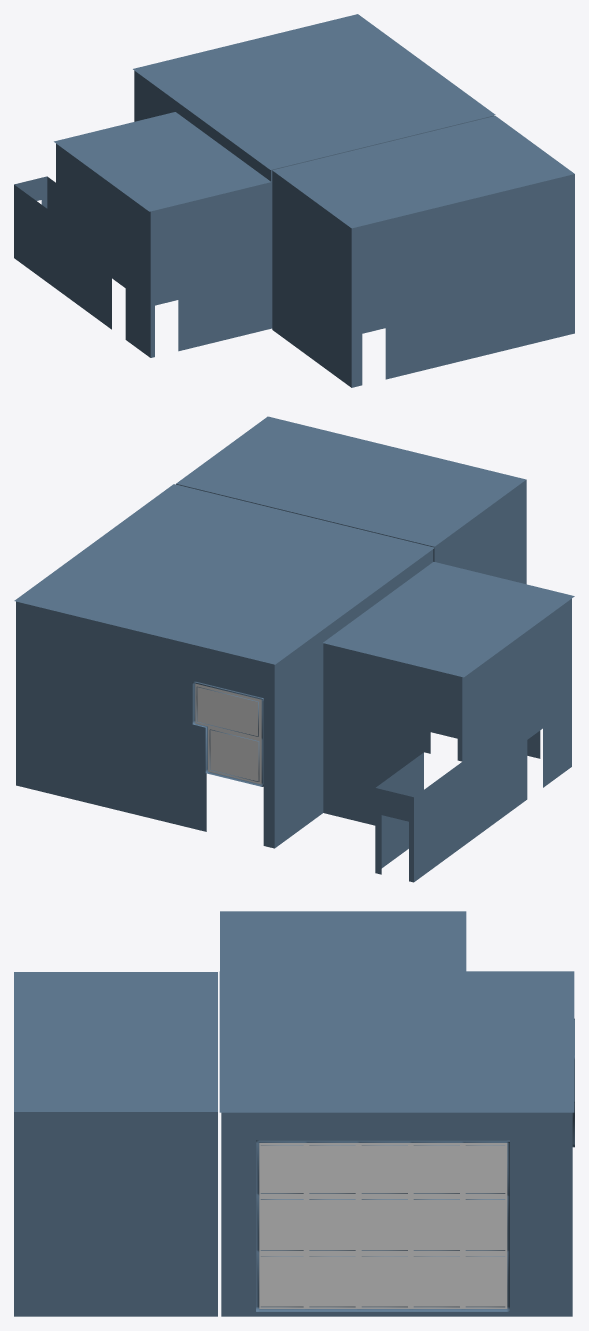
Rendered from Room-Walls-Roof-Windows.fbx.
3 views of the same model, one above another, from view 1: azimuth 30°, elevation 25°; view 2: azimuth 150°, elevation 25°; view 3: azimuth 270°, elevation 25° (orthographic). The views are drawn at different scales.
Visible parts, largest first — view 1: Walls, Roof; view 2: Walls, Roof, Windows, WindowFrames; view 3: Roof, Walls, Windows, WindowFrames.
Part boxes in pixels (x1=…): Walls: x1=14, y1=70, x2=574, y2=387; Roof: x1=54, y1=14, x2=574, y2=228; Walls: x1=16, y1=479, x2=571, y2=882; Roof: x1=14, y1=416, x2=574, y2=677; Windows: x1=195, y1=683, x2=261, y2=784; WindowFrames: x1=192, y1=681, x2=263, y2=786; Roof: x1=14, y1=911, x2=574, y2=1112; Walls: x1=14, y1=1112, x2=572, y2=1316; Windows: x1=259, y1=1143, x2=507, y2=1308; WindowFrames: x1=256, y1=1018, x2=574, y2=1311.
Size of the model in its own units: 1483 by 650 by 1613.
